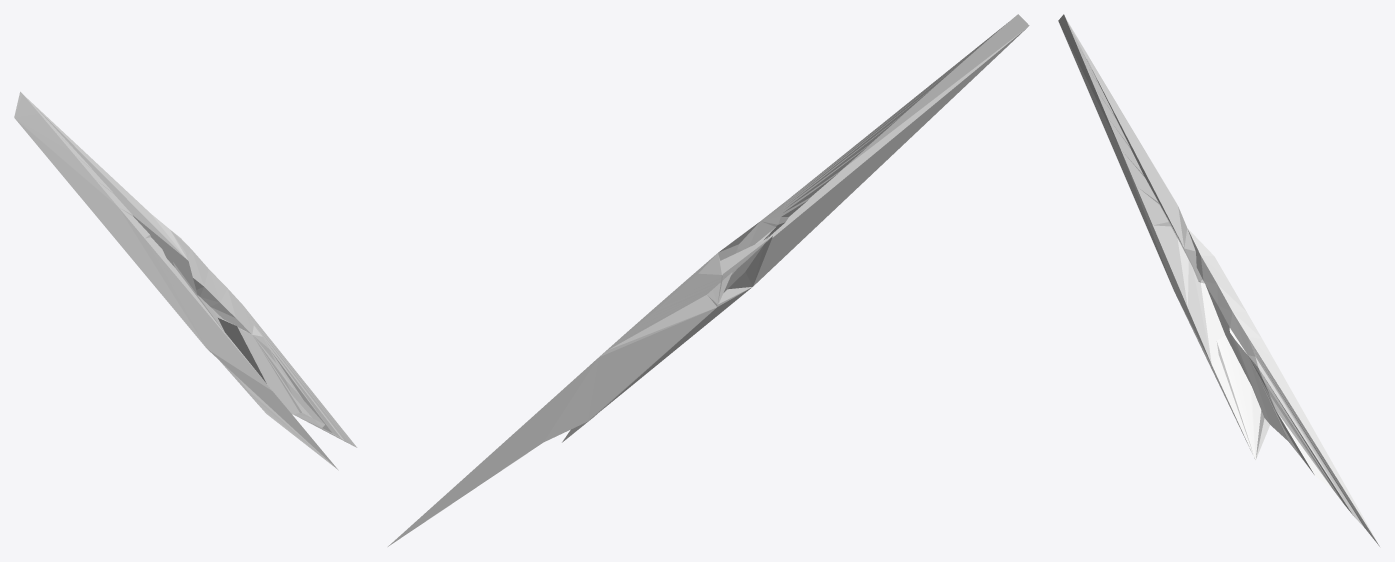
Rendered from sail3ClothClosed.obj.
3 renders of one model, left to right at view 1: azimuth 30°, elevation 25°; view 2: azimuth 150°, elevation 25°; view 3: azimuth 270°, elevation 25°, orthographic. The views are drawn at different scales.
Parts seen in each view (by area): view 1: Cloth3Closed_Plane.003; view 2: Cloth3Closed_Plane.003; view 3: Cloth3Closed_Plane.003.
Part boxes in pixels (left/top/right/bottom): Cloth3Closed_Plane.003: left=14, top=91, right=357, bottom=470; Cloth3Closed_Plane.003: left=388, top=14, right=1029, bottom=546; Cloth3Closed_Plane.003: left=1058, top=14, right=1380, bottom=547.
Bounding box in the file's own units: 2.15 × 2.31 × 1.8.
2 materials, 1 textured.
